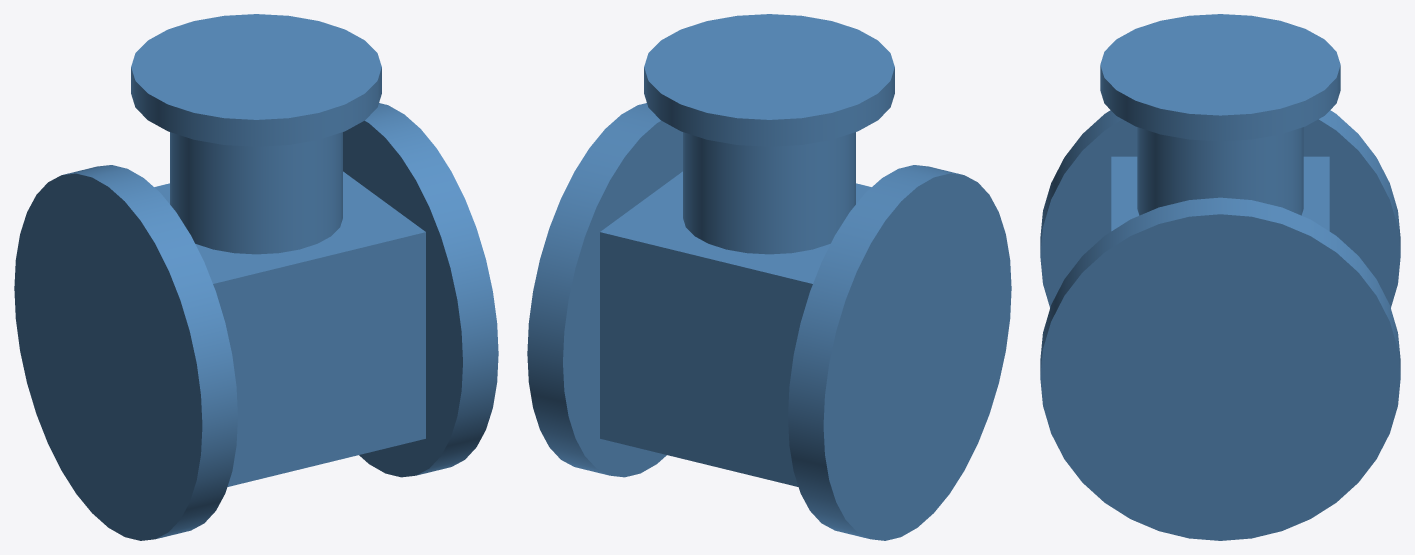
The model's file is gate_valve_body.glb.
The picture shows the model from 3 angles, left to right: view 1: azimuth 30°, elevation 25°; view 2: azimuth 150°, elevation 25°; view 3: azimuth 270°, elevation 25°; orthographic projection. The views are drawn at different scales.
Visible parts, largest first — view 1: flange_in, body, bonnet_cap, flange_out, bonnet; view 2: flange_in, body, bonnet_cap, flange_out, bonnet; view 3: flange_out, bonnet_cap, flange_in, bonnet, body.
Boxes of the visible parts, x1=… form: flange_in: x1=14, y1=165, x2=237, y2=540; body: x1=154, y1=171, x2=425, y2=486; bonnet_cap: x1=131, y1=14, x2=381, y2=146; flange_out: x1=343, y1=103, x2=498, y2=477; bonnet: x1=170, y1=132, x2=342, y2=254; flange_in: x1=788, y1=165, x2=1011, y2=540; body: x1=600, y1=171, x2=871, y2=486; bonnet_cap: x1=644, y1=14, x2=894, y2=146; flange_out: x1=527, y1=103, x2=682, y2=477; bonnet: x1=683, y1=132, x2=855, y2=254; flange_out: x1=1040, y1=197, x2=1400, y2=540; bonnet_cap: x1=1100, y1=14, x2=1340, y2=141; flange_in: x1=1040, y1=110, x2=1400, y2=307; bonnet: x1=1137, y1=127, x2=1303, y2=215; body: x1=1111, y1=156, x2=1329, y2=231.
Size of the model in its own units: 0.15 by 0.2055 by 0.165.
